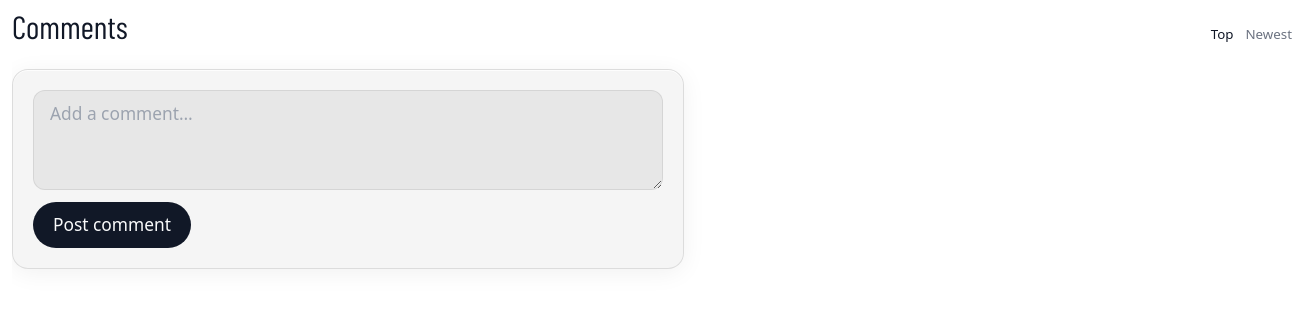
Scenario: CommentsSection › shows an inline error message when postComment rejects
Type "Nice read" into the text box with placeholder "Add a comment…" at (348,140), box [33,90,663,190]
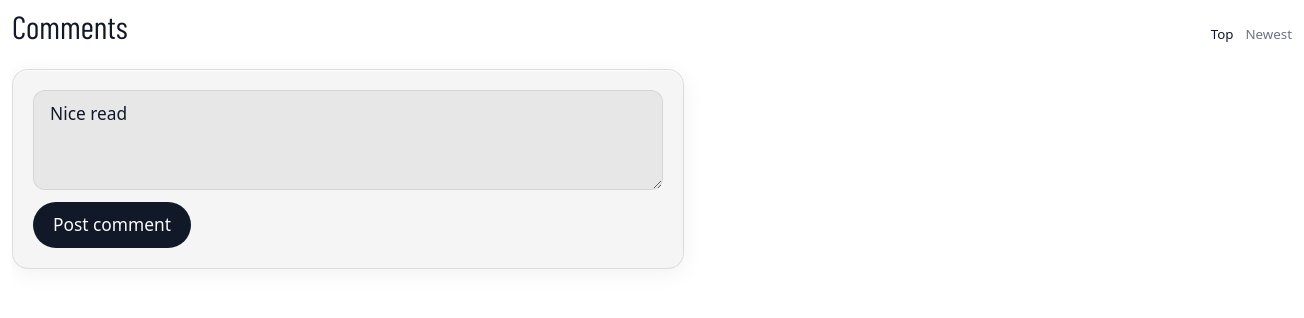
Click the button "Post comment" at (112,225), box [33,202,191,248]
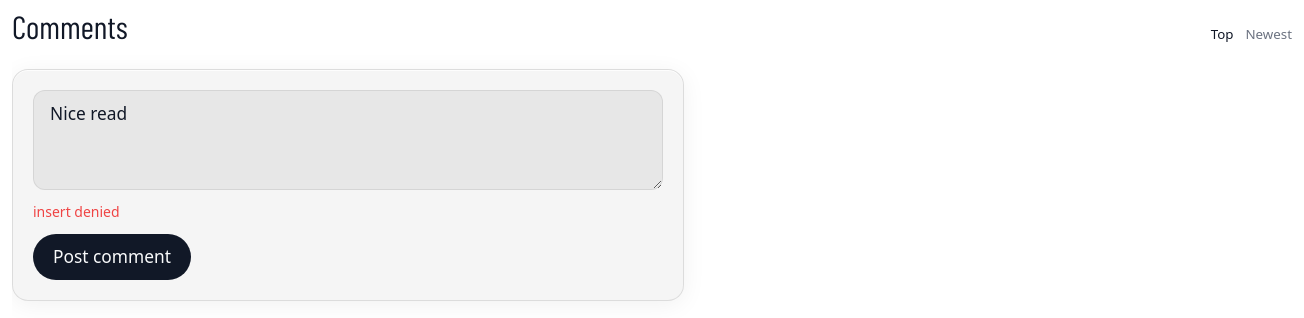
Check: the text "insert denied" is shown, box [33,202,120,221]
